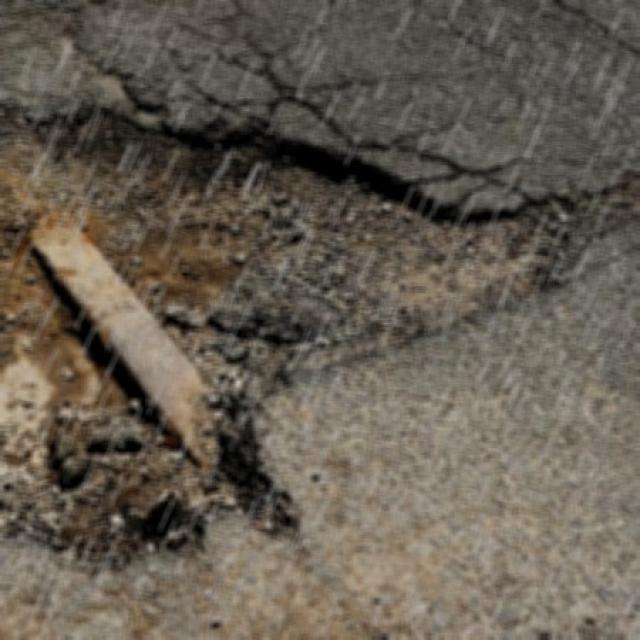road-pothole: (0, 79, 573, 564)
